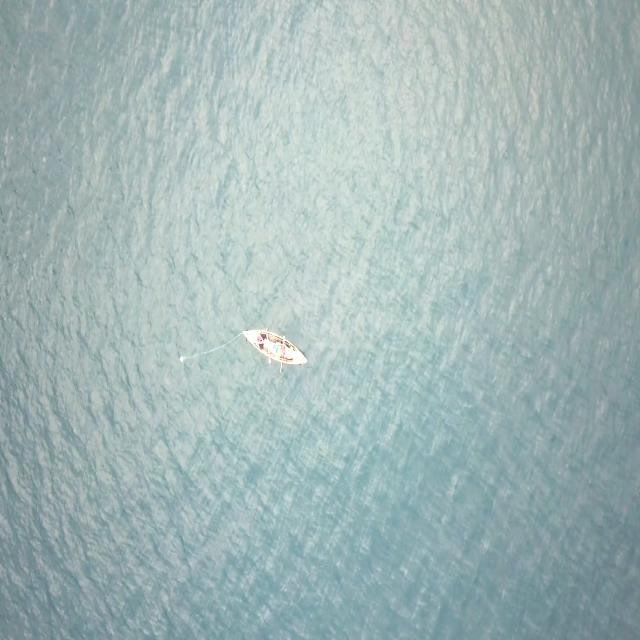ship: (242, 318, 306, 371)
